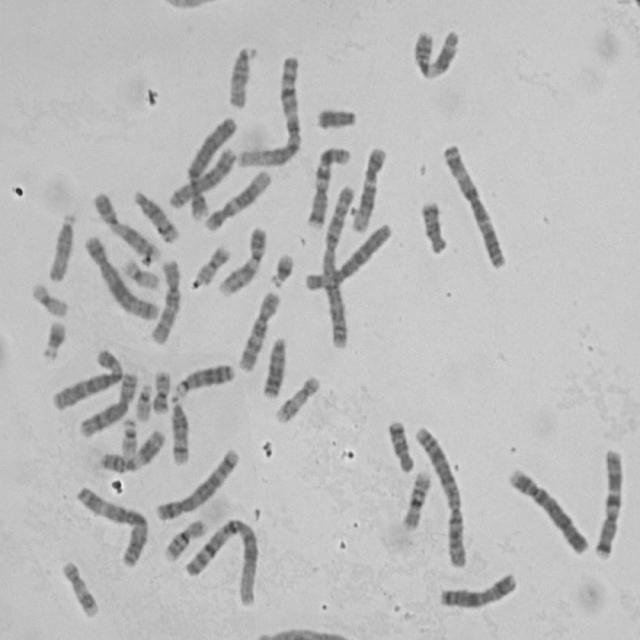A1: (232, 51, 304, 171), (182, 512, 261, 609)
A2: (411, 421, 471, 570), (319, 181, 359, 349)
A3: (439, 137, 509, 270), (72, 480, 152, 570)
B4: (505, 463, 592, 556), (179, 111, 239, 217)
B5: (80, 229, 163, 323), (152, 443, 242, 523)
C10: (234, 285, 283, 374), (147, 253, 184, 347)
C11: (97, 424, 168, 474), (410, 23, 462, 81)
C12: (200, 165, 274, 232), (349, 142, 389, 234)
C6: (300, 217, 394, 293), (47, 344, 126, 413)
C7: (303, 140, 353, 229), (590, 444, 626, 561)
C8: (164, 140, 238, 211), (74, 366, 139, 439)
C9: (89, 188, 162, 260), (214, 221, 268, 298)
D13: (170, 358, 236, 400), (259, 332, 289, 400)
D14: (130, 185, 182, 244), (166, 391, 192, 467)
D15: (43, 207, 78, 284), (224, 39, 260, 110)
E16: (161, 514, 209, 563), (398, 467, 433, 532)
E17: (271, 370, 322, 425), (58, 556, 101, 620)
E18: (383, 415, 417, 475), (417, 195, 450, 256)
F19: (28, 278, 70, 318), (118, 253, 162, 291)
F20: (192, 241, 232, 287), (149, 365, 173, 415)
G21: (38, 315, 68, 361), (266, 248, 296, 288)
G22: (118, 413, 140, 458), (132, 379, 154, 424)
X: (434, 567, 520, 611)
Y: (313, 104, 358, 130)
